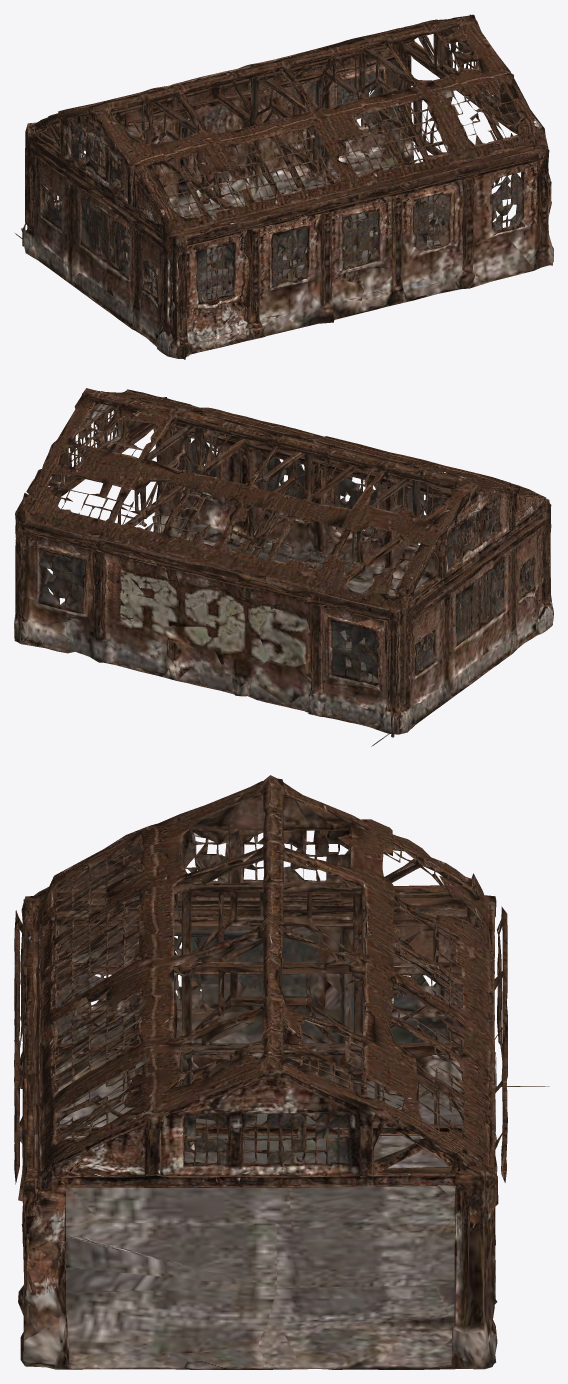
The model's file is warehouse_shell.glb.
3 renders of one model, top to bottom at view 1: azimuth 30°, elevation 25°; view 2: azimuth 150°, elevation 25°; view 3: azimuth 270°, elevation 25°, orthographic. The views are drawn at different scales.
Bounding box in the file's own units: 1.9 × 0.9321 × 1.49.
1 material, 1 textured.
